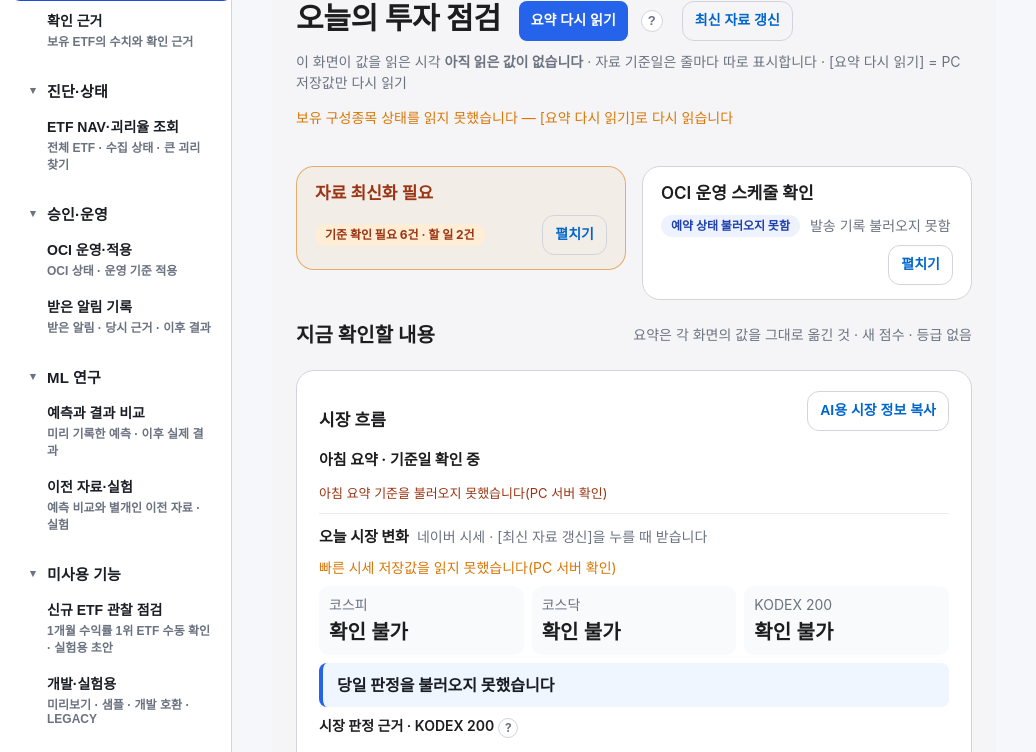
POC6-15 ML 연구 두 화면 › 예측과 결과 비교(`ml`) = 전향 카드 1개만 · 이전 자료 카드 조회 0
The width and height of the screenshot is (1036, 752).
(page scrolled)
Click the button "예측과 결과 비교 미리 기록한 예측 · 이후 실제 결과" at (122, 430), box [12,393,231,467]
(page scrolled)
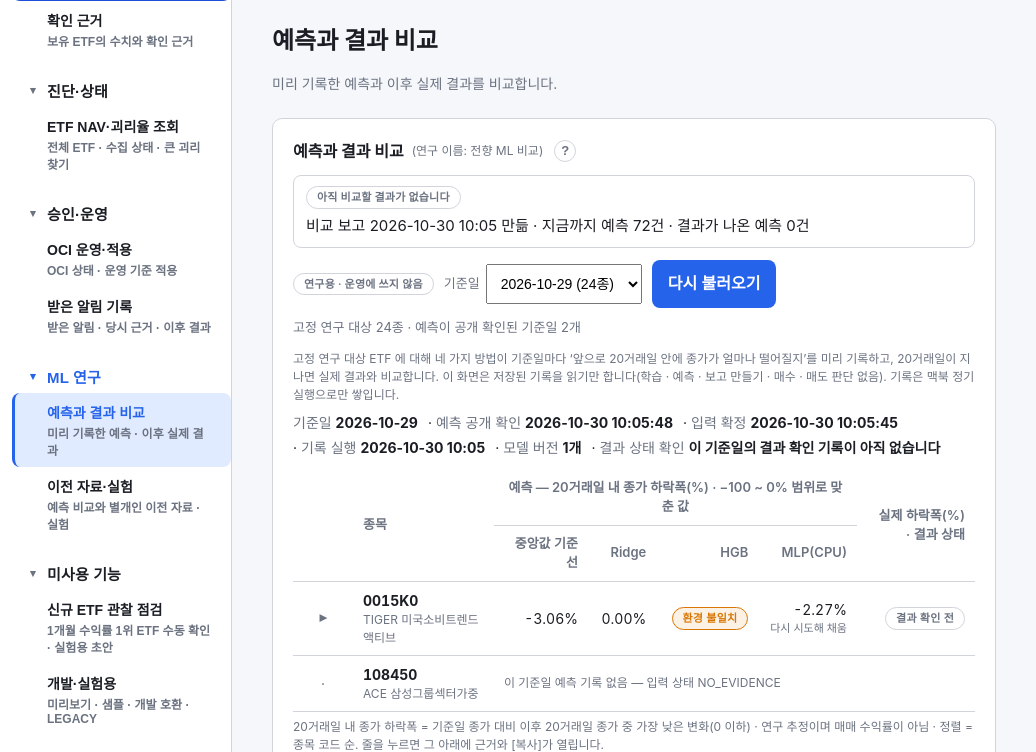
expect the text "미리 기록한 예측과 이후 실제 결과를 비교합니다." is shown: met, box [272,75,557,92]
expect the text "-3.06%" is shown: met, box [494,581,588,655]
